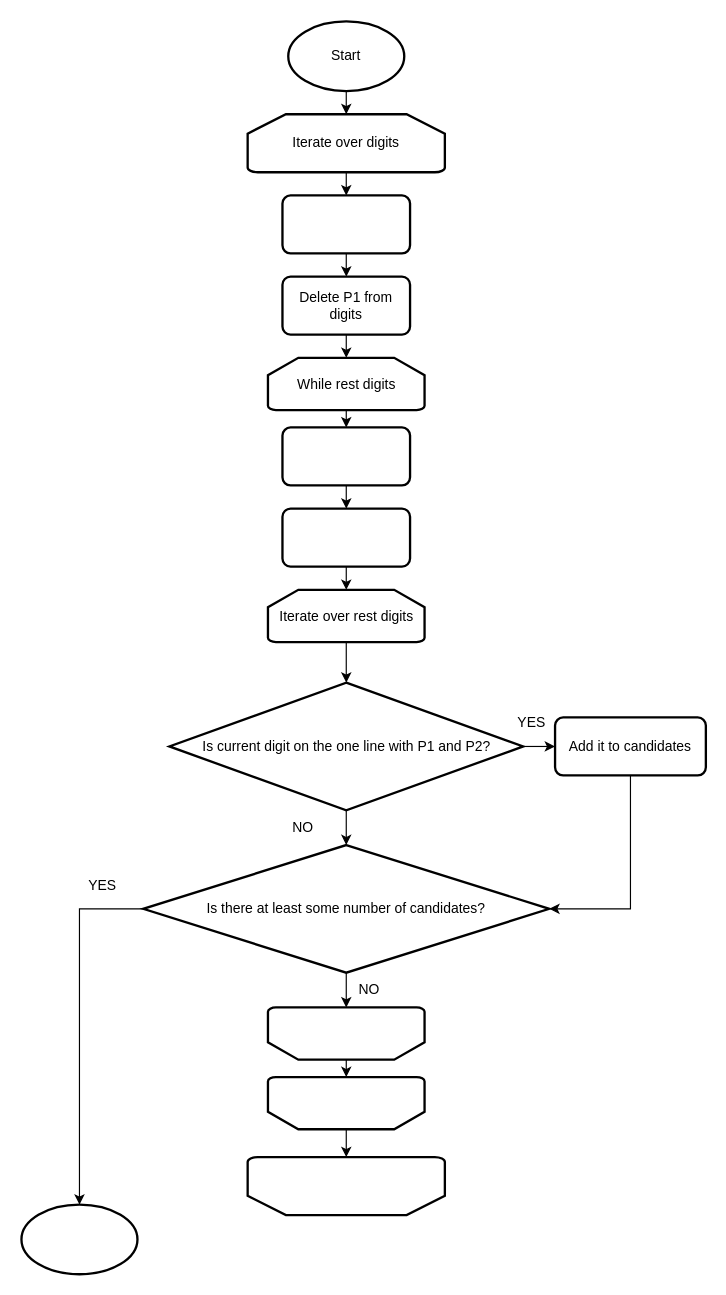
Some shapes in this 726 by 1295 pixel diagram are drawn without their labels. Here are the shapes that lost their labels. From the top down, the centre of each, then its label:
At (x=346, y=224): "Assign current digit as P1".
At (x=346, y=456): "Assign last digit as P2".
At (x=346, y=537): "Delete P2 from digits".
At (x=79, y=1239): "End".
